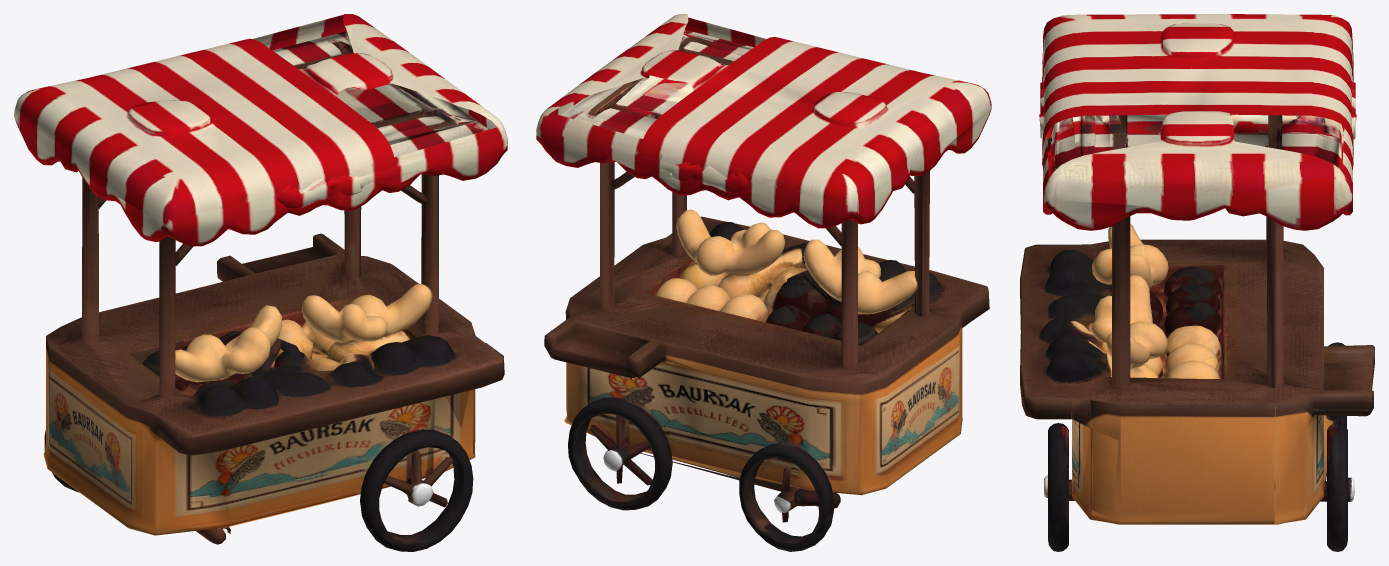
Rendered from hub_baursak_stall.glb.
3 views of the same model, side by side, from view 1: azimuth 30°, elevation 25°; view 2: azimuth 150°, elevation 25°; view 3: azimuth 270°, elevation 25° (orthographic). The views are drawn at different scales.
Bounding box in the file's own units: 1.62 × 1.91 × 1.45.
1 material, 1 textured.
